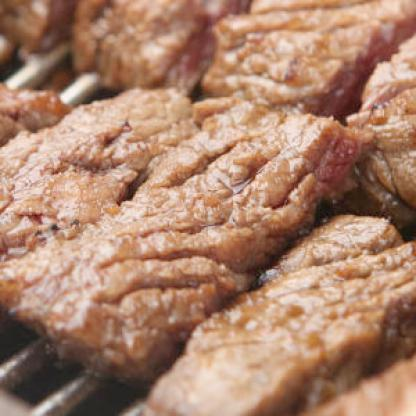Carne: (0, 104, 366, 356), (106, 218, 415, 413), (194, 0, 415, 93), (60, 0, 244, 90), (337, 32, 415, 218), (282, 352, 414, 412), (0, 79, 81, 137)
